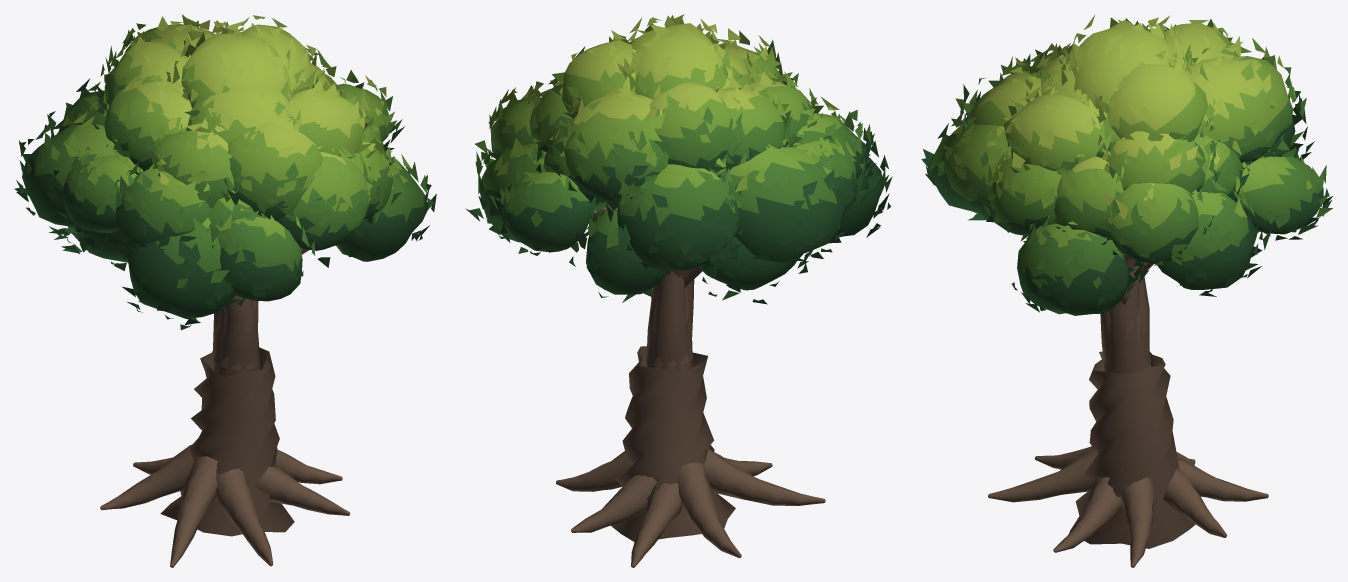
The model's file is AncientOakA.glb.
3 renders of one model, left to right at view 1: azimuth 30°, elevation 25°; view 2: azimuth 150°, elevation 25°; view 3: azimuth 270°, elevation 25°, orthographic. The views are drawn at different scales.
Parts seen in each view (by area): view 1: AncientOakA.bark, AncientOakA.leafLight, AncientOakA.leafMid, AncientOakA.leafDark, AncientOakA.leafGold; view 2: AncientOakA.leafDark, AncientOakA.bark, AncientOakA.leafMid, AncientOakA.leafLight, AncientOakA.leafGold; view 3: AncientOakA.leafLight, AncientOakA.bark, AncientOakA.leafGold, AncientOakA.leafMid, AncientOakA.leafDark.
Part boxes in pixels (x1,y1,x2,y2): AncientOakA.bark: [100, 248, 350, 567]; AncientOakA.leafLight: [51, 16, 411, 238]; AncientOakA.leafMid: [19, 19, 434, 288]; AncientOakA.leafDark: [14, 61, 436, 330]; AncientOakA.leafGold: [122, 14, 383, 185]; AncientOakA.leafDark: [465, 128, 892, 304]; AncientOakA.bark: [556, 207, 825, 567]; AncientOakA.leafMid: [475, 40, 888, 248]; AncientOakA.leafLight: [488, 30, 855, 212]; AncientOakA.leafGold: [511, 14, 835, 139]; AncientOakA.leafLight: [945, 17, 1312, 247]; AncientOakA.bark: [988, 255, 1268, 567]; AncientOakA.leafGold: [978, 14, 1271, 219]; AncientOakA.leafMid: [929, 19, 1332, 288]; AncientOakA.leafDark: [921, 26, 1332, 315].
Size of the model in its own units: 68.87 by 89.19 by 66.51.
